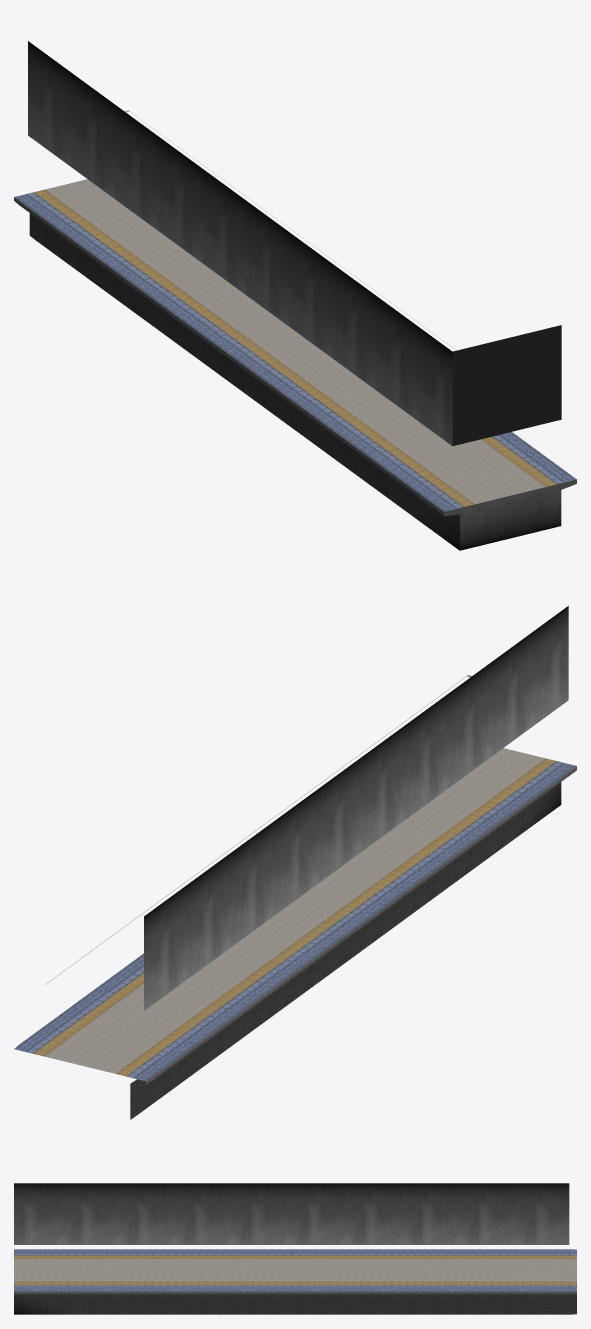
File: AMB_HOME_CHIKA_RYOUMEN.glb
The picture shows the model from 3 angles, top to bottom: view 1: azimuth 30°, elevation 25°; view 2: azimuth 150°, elevation 25°; view 3: azimuth 270°, elevation 25°; orthographic projection. The views are drawn at different scales.
Parts seen in each view (by area): view 1: Mesh1; view 2: Mesh1; view 3: Mesh1.
Boxes of the visible parts, x1,y1,x2,y2 form: Mesh1: (14, 41, 576, 550); Mesh1: (14, 606, 576, 1119); Mesh1: (14, 1183, 576, 1314).
Size of the model in its own units: 18.06 by 26.11 by 101.
Materials: 9 (8 with a texture image).
